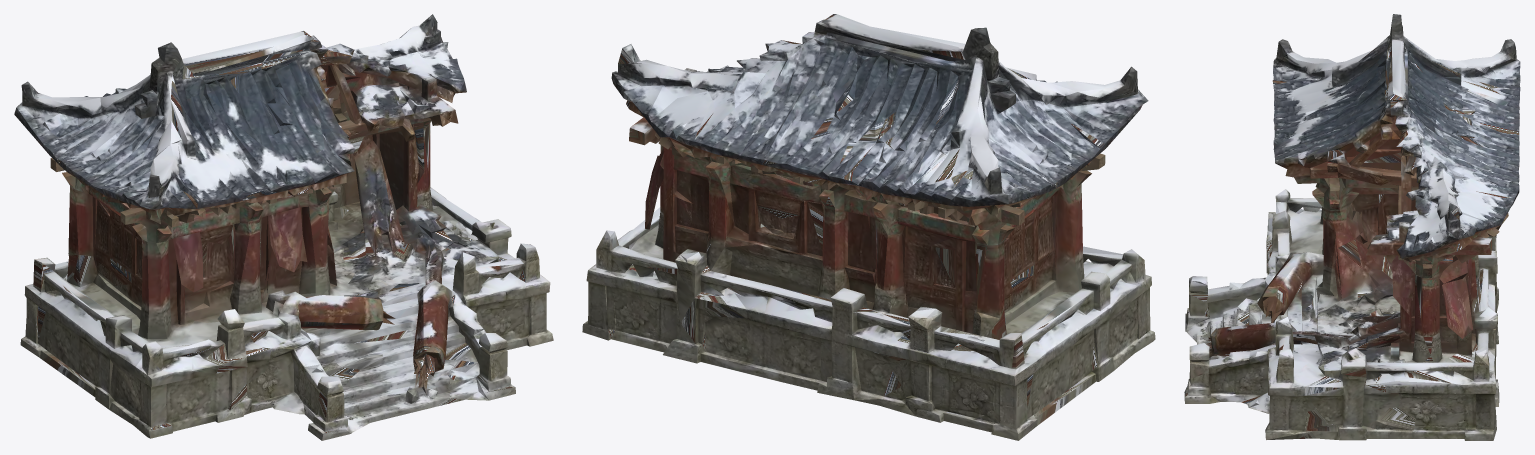
File: prop_ruined_shrine.2a991c57.glb
3 views of the same model, side by side, from view 1: azimuth 30°, elevation 25°; view 2: azimuth 150°, elevation 25°; view 3: azimuth 270°, elevation 25° (orthographic). The views are drawn at different scales.
Visible parts, largest first — view 1: tripo_node_8b017893-0841-4dd2-92dd-59c05b2319e6; view 2: tripo_node_8b017893-0841-4dd2-92dd-59c05b2319e6; view 3: tripo_node_8b017893-0841-4dd2-92dd-59c05b2319e6.
Part boxes in pixels (x1,y1,x2,y2): tripo_node_8b017893-0841-4dd2-92dd-59c05b2319e6: [14, 14, 553, 440]; tripo_node_8b017893-0841-4dd2-92dd-59c05b2319e6: [582, 14, 1155, 440]; tripo_node_8b017893-0841-4dd2-92dd-59c05b2319e6: [1184, 14, 1520, 440].
Size of the model in its own units: 10.64 by 7.98 by 8.46.
1 material, 1 textured.
